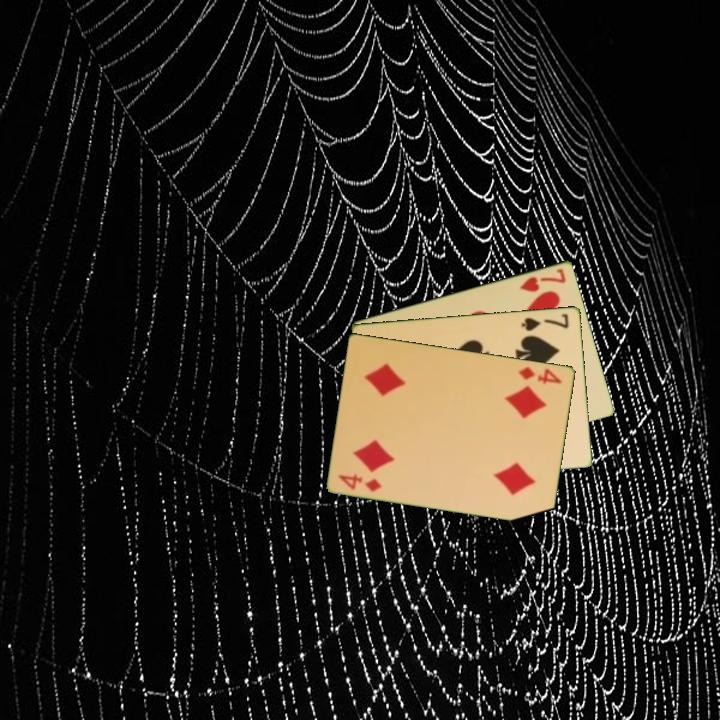4d: (515, 362, 565, 387), (335, 470, 384, 495)
7h: (516, 264, 569, 295)
7s: (518, 310, 572, 333)
